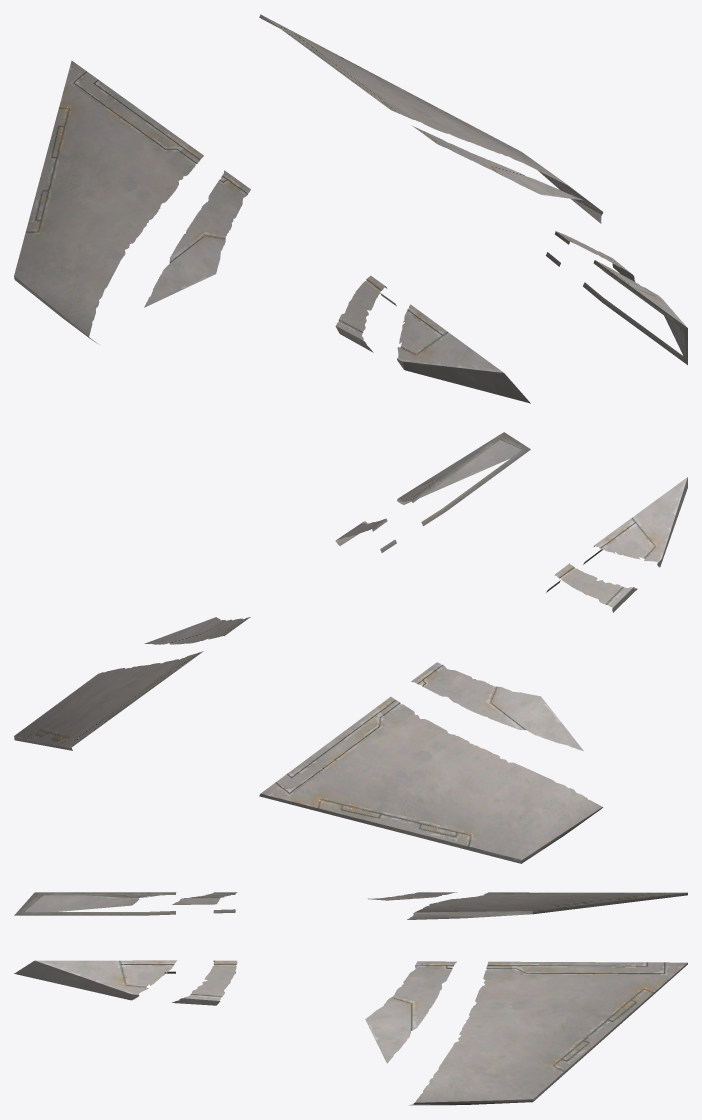
The model's file is hutt_fighter_medium_struct_s02_l1.fbx.
3 renders of one model, top to bottom at view 1: azimuth 30°, elevation 25°; view 2: azimuth 150°, elevation 25°; view 3: azimuth 270°, elevation 25°, orthographic. The views are drawn at different scales.
Visible parts, largest first — view 1: mesh_node; view 2: mesh_node; view 3: mesh_node.
Part boxes in pixels (<box>): mesh_node: <box>14,14,687,403</box>; mesh_node: <box>14,432,687,863</box>; mesh_node: <box>14,892,687,1105</box>.
Size of the model in its own units: 13.92 by 2.95 by 20.77.
